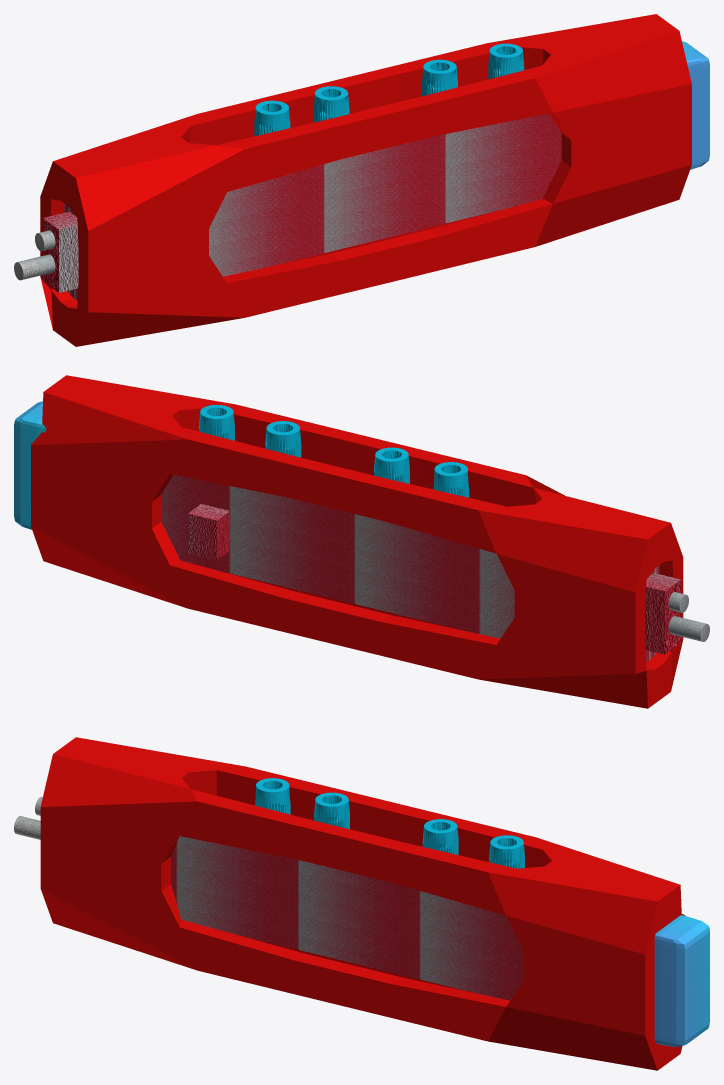
The model's file is Automat.fbx.
The picture shows the model from 3 angles, top to bottom: view 1: azimuth 30°, elevation 25°; view 2: azimuth 150°, elevation 25°; view 3: azimuth 330°, elevation 25°; orthographic projection.
Parts seen in each view (by area): view 1: Korpus, Osnova, Ohlad, Stwol, Priklad, Dulo; view 2: Korpus, Osnova, Ohlad, Priklad, Stwol, Knopka, Dulo; view 3: Korpus, Osnova, Priklad, Ohlad, Dulo.
Part boxes in pixels (x1,y1,x2,y2): Korpus: [40, 14, 691, 346]; Osnova: [64, 113, 561, 300]; Ohlad: [254, 43, 524, 136]; Stwol: [43, 211, 78, 292]; Priklad: [682, 41, 709, 169]; Dulo: [14, 230, 55, 280]; Korpus: [31, 375, 683, 708]; Osnova: [46, 425, 659, 662]; Ohlad: [199, 405, 469, 497]; Priklad: [14, 401, 46, 529]; Stwol: [645, 573, 680, 654]; Knopka: [188, 504, 229, 560]; Dulo: [668, 592, 709, 641]; Korpus: [40, 737, 685, 1070]; Osnova: [171, 836, 524, 1000]; Priklad: [654, 915, 709, 1047]; Ohlad: [255, 778, 524, 868]; Dulo: [14, 797, 42, 839].
Bounding box in the file's own units: 312 × 79.03 × 39.89.
